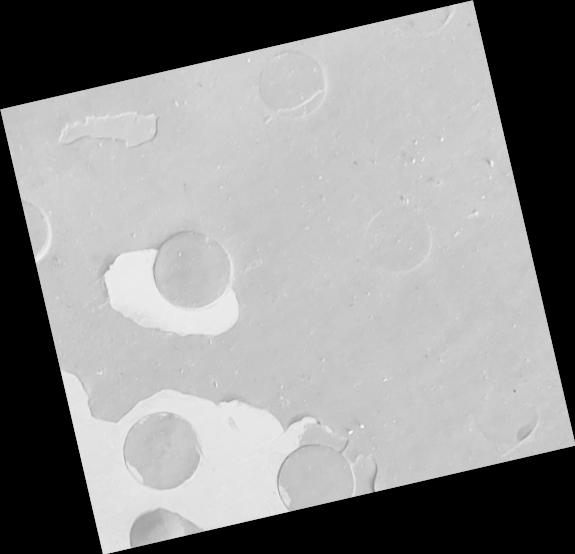paint-off: (1, 0, 575, 554)
